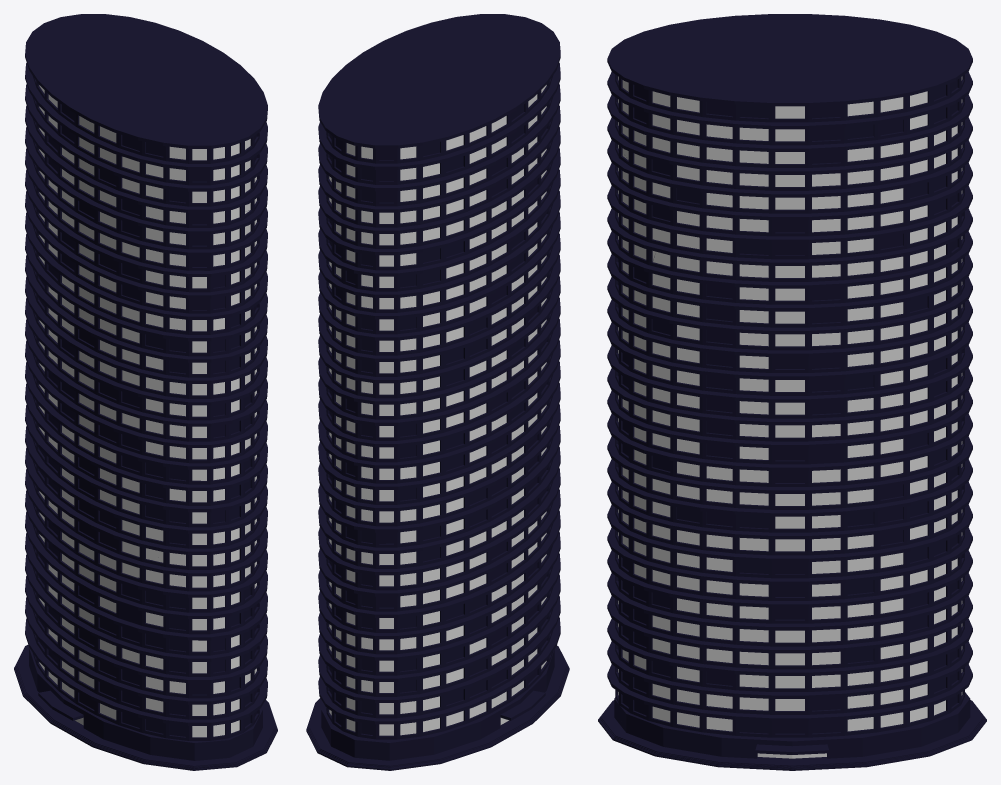
File: CircleBuilding-High.fbx
3 renders of one model, left to right at view 1: azimuth 30°, elevation 25°; view 2: azimuth 150°, elevation 25°; view 3: azimuth 270°, elevation 25°, orthographic. The views are drawn at different scales.
Parts seen in each view (by area): view 1: Circle.001, Circle.001_cell.022, Circle.001_cell.016, Circle.001_cell.019, Circle.001_cell.008, Circle.001_cell.011, Circle.001_cell.026, Circle.001_cell, Circle.001_cell.018, Circle.001_cell.007, Circle.002, Circle.001_cell.002 (+10 smaller); view 2: Circle.001, Circle.001_cell.018, Circle.001_cell.026, Circle.001_cell.008, Circle.001_cell, Circle.001_cell.002, Circle.002, Circle.001_cell.015, Circle.001_cell.001, Circle.001_cell.022, Circle.001_cell.016, Circle.001_cell.021 (+11 smaller); view 3: Circle.001, Circle.001_cell.008, Circle.001_cell.004, Circle.001_cell.012, Circle.001_cell.026, Circle.001_cell.003, Circle.002, Circle.001_cell.021, Circle.002_cell, Circle.001_cell.009, Circle.001_cell.005, Circle.001_cell.007 (+11 smaller).
Part boxes in pixels (x1,y1,x2,y2): Circle.001: (25, 16, 267, 740); Circle.001_cell.022: (48, 96, 267, 333); Circle.001_cell.016: (57, 372, 203, 572); Circle.001_cell.019: (75, 260, 264, 434); Circle.001_cell.008: (122, 75, 267, 214); Circle.001_cell.011: (53, 545, 176, 735); Circle.001_cell.026: (25, 14, 120, 152); Circle.001_cell: (27, 129, 97, 377); Circle.001_cell.018: (25, 551, 98, 715); Circle.001_cell.007: (197, 425, 267, 533); Circle.002: (14, 646, 277, 769); Circle.001_cell.002: (32, 376, 81, 556); Circle.001: (318, 42, 560, 739); Circle.001_cell.018: (337, 569, 543, 739); Circle.001_cell.026: (322, 90, 516, 251); Circle.001_cell.008: (379, 14, 560, 74); Circle.001_cell: (452, 152, 546, 394); Circle.001_cell.002: (476, 393, 538, 573); Circle.002: (306, 646, 569, 770); Circle.001_cell.015: (346, 459, 499, 678); Circle.001_cell.001: (332, 367, 498, 486); Circle.001_cell.022: (500, 63, 560, 284); Circle.001_cell.016: (511, 322, 560, 518); Circle.001_cell.021: (318, 464, 377, 670); Circle.001: (607, 14, 972, 734); Circle.001_cell.008: (607, 21, 767, 175); Circle.001_cell.004: (643, 635, 968, 737); Circle.001_cell.012: (607, 349, 771, 523); Circle.001_cell.026: (793, 14, 972, 177); Circle.001_cell.003: (658, 161, 871, 376); Circle.002: (599, 699, 986, 770); Circle.001_cell.021: (805, 417, 972, 634); Circle.002_cell: (607, 706, 777, 769); Circle.001_cell.009: (623, 233, 740, 397); Circle.001_cell.005: (730, 67, 947, 225); Circle.001_cell.007: (607, 371, 702, 553).
Size of the model in its own units: 361 by 1124 by 598.
